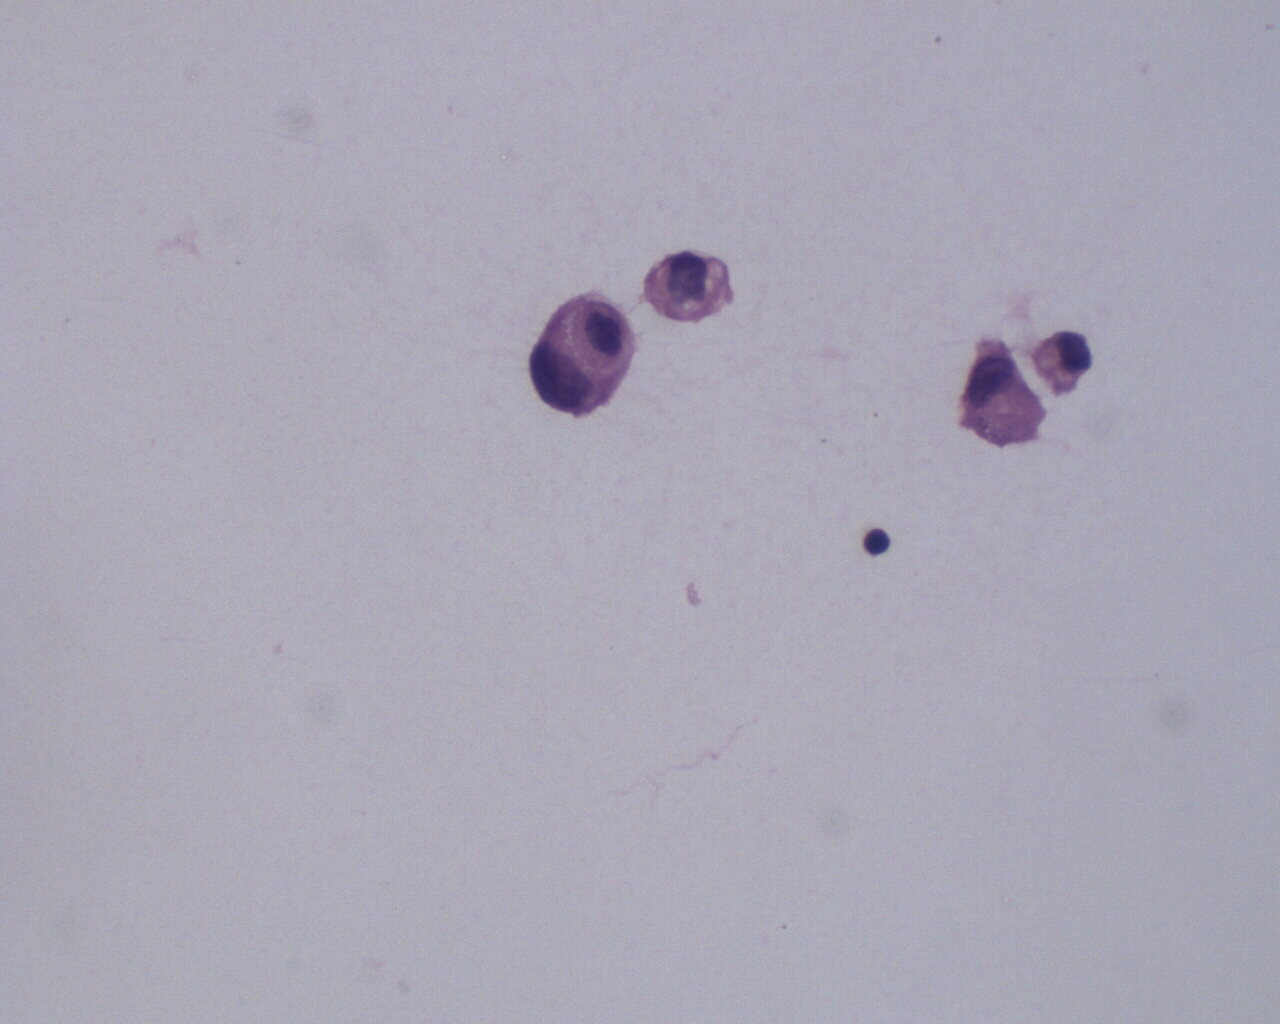ab: (638, 242, 738, 328)
histo: (954, 339, 1049, 453)
lymph: (858, 523, 904, 559)
